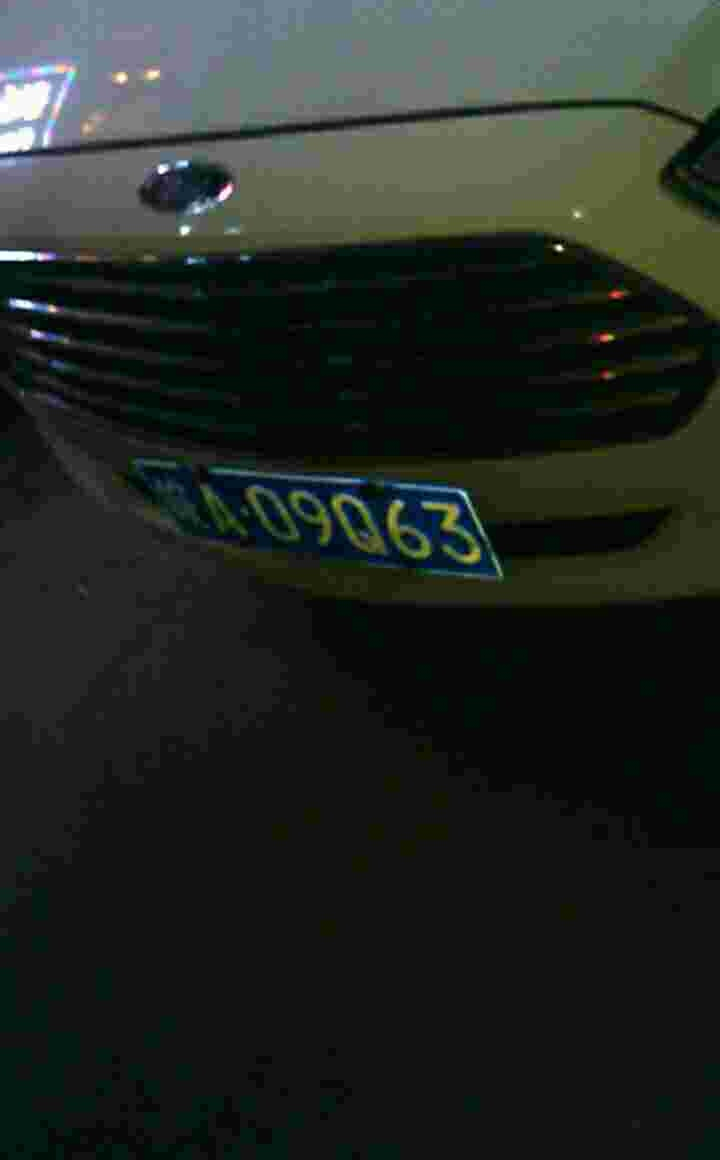license_plate: (133, 457, 486, 565)
